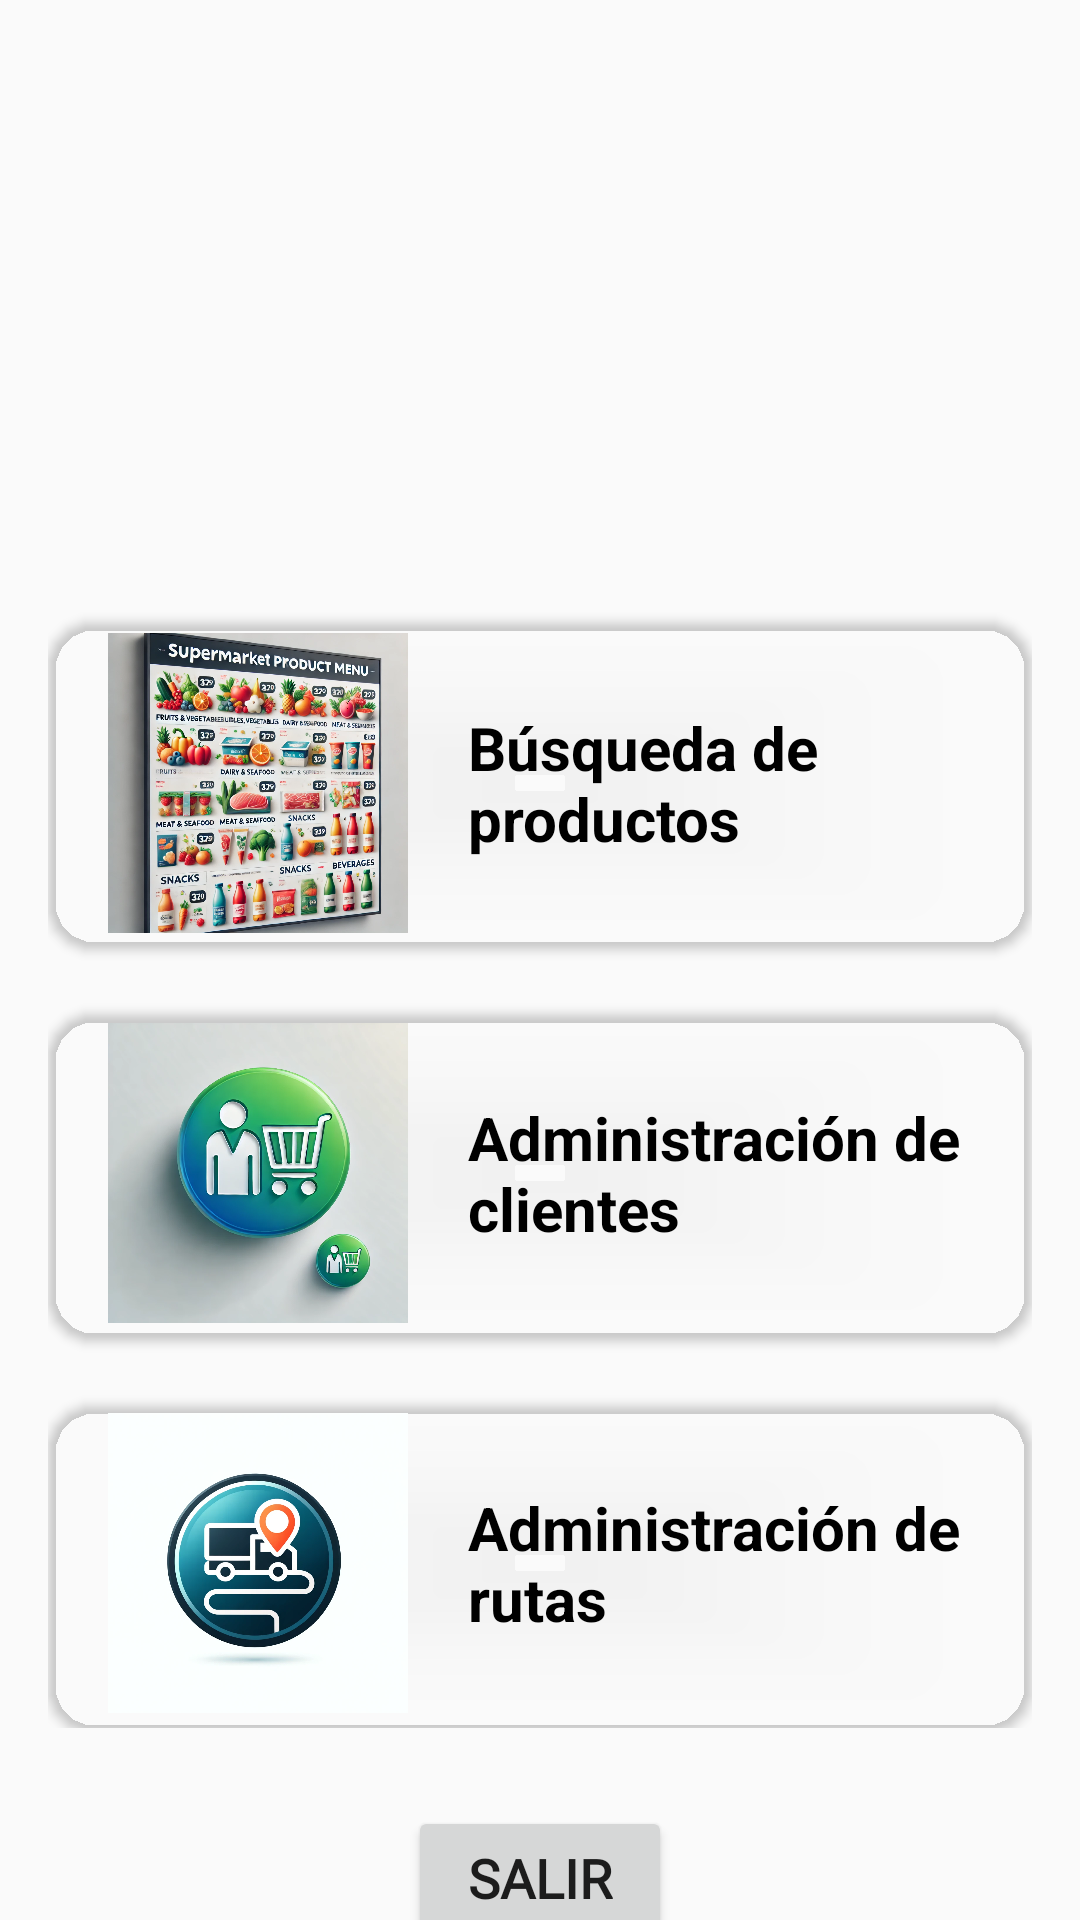

Where to tap for icons on this 1080x1920 app screen, as point (x, y):
routes: point (254, 1568)
